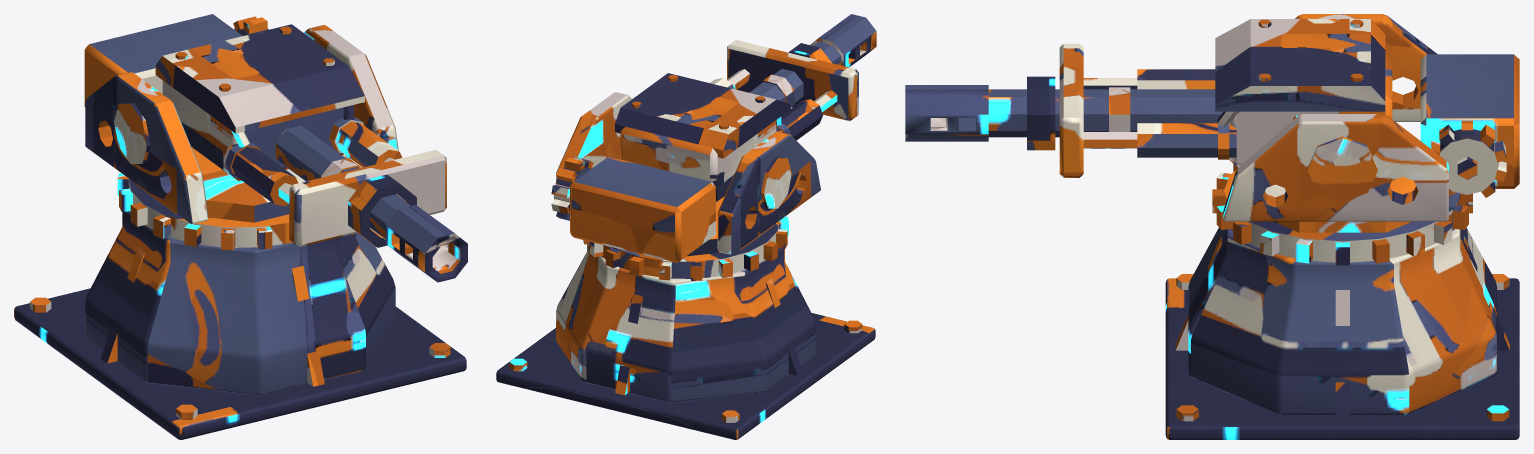
Rendered from R4W_Basic_LOD1.fbx.
The picture shows the model from 3 angles, left to right: view 1: azimuth 30°, elevation 25°; view 2: azimuth 150°, elevation 25°; view 3: azimuth 270°, elevation 25°; orthographic projection. The views are drawn at different scales.
Visible parts, largest first — view 1: R4W_Basic_LOD1; view 2: R4W_Basic_LOD1; view 3: R4W_Basic_LOD1.
Boxes of the visible parts, x1=… form: R4W_Basic_LOD1: x1=14, y1=14, x2=467, y2=439; R4W_Basic_LOD1: x1=496, y1=14, x2=876, y2=439; R4W_Basic_LOD1: x1=905, y1=14, x2=1519, y2=439.
Size of the model in its own units: 0.5 by 0.4955 by 0.868.
